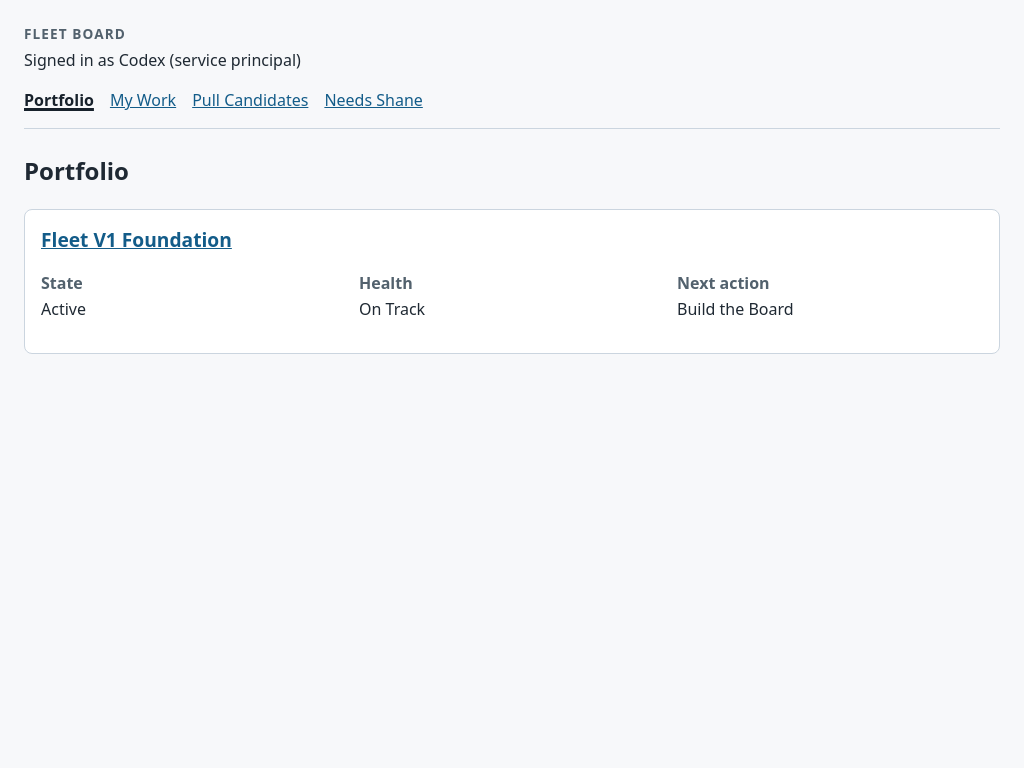
Test: Fleet Board › separates obligations, outbound requests, inbound requests, and Pull Candidates
The image size is (1024, 768).
Click the link "My Work".
click(143, 100)  # box [110,88,176,112]
(page scrolled)
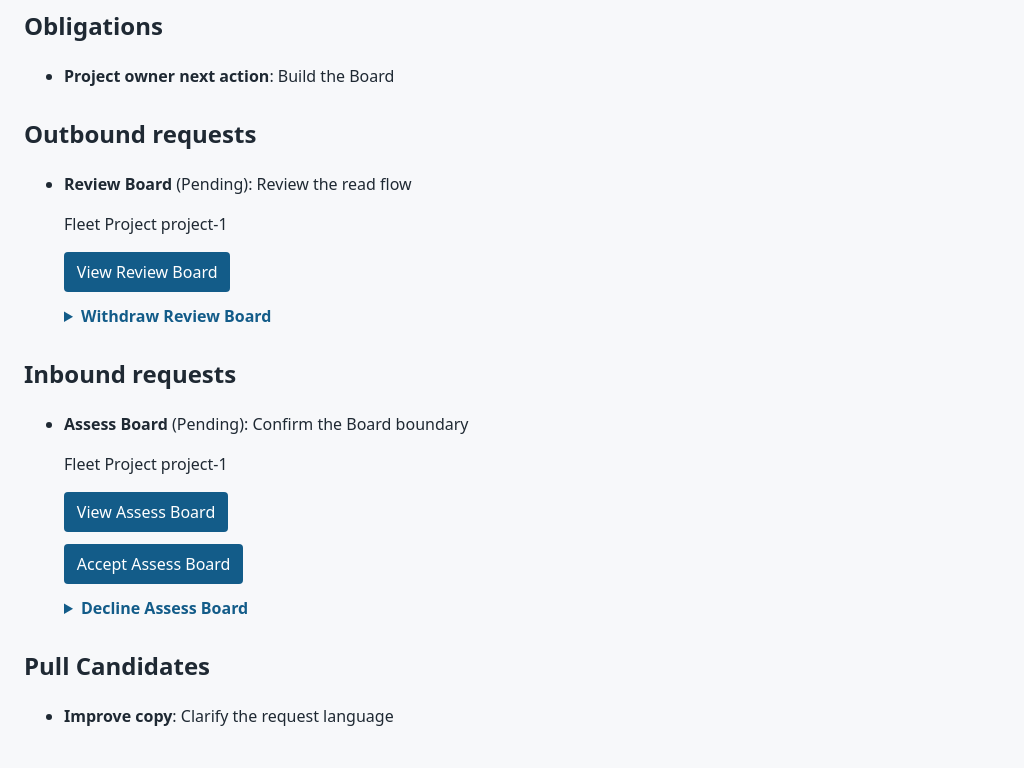
Expected: the heading "Obligations" is shown, [24,9,163,42]
Expected: the heading "Outbound requests" is shown, [24,117,256,150]
Expected: the heading "Inbound requests" is shown, [24,357,236,390]
